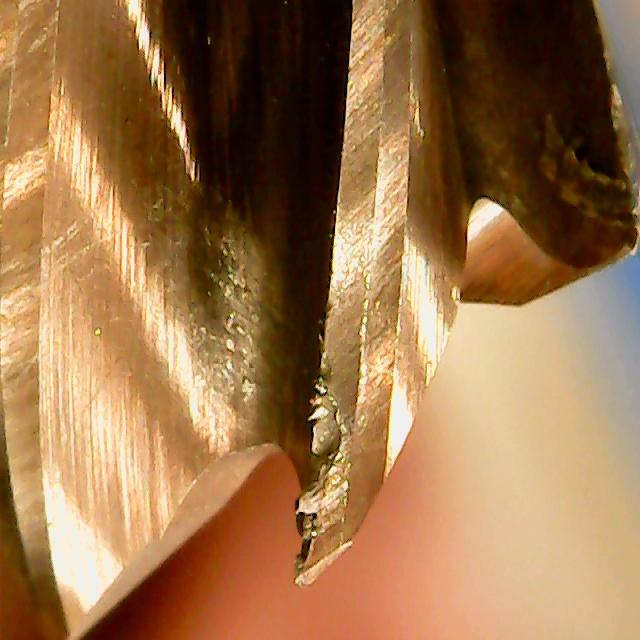Tool-wear-class-2: (274, 379, 416, 588)
